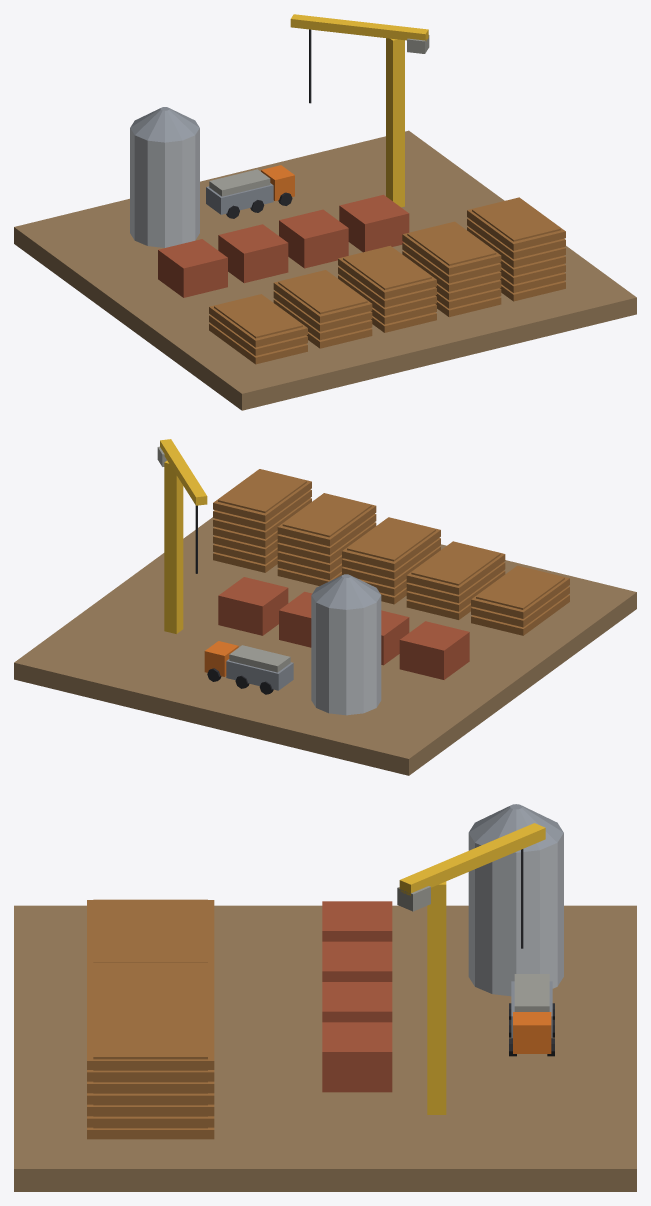
The model's file is forest_special_3.glb.
The picture shows the model from 3 angles, top to bottom: view 1: azimuth 30°, elevation 25°; view 2: azimuth 150°, elevation 25°; view 3: azimuth 270°, elevation 25°; orthographic projection. The views are drawn at different scales.
Visible parts, largest first — view 1: forest_special_3; view 2: forest_special_3; view 3: forest_special_3.
Part boxes in pixels (<box>): forest_special_3: <box>14,14,636,410</box>; forest_special_3: <box>14,439,636,775</box>; forest_special_3: <box>14,804,636,1191</box>.
Size of the model in its own units: 1.96 by 0.92 by 1.96.
